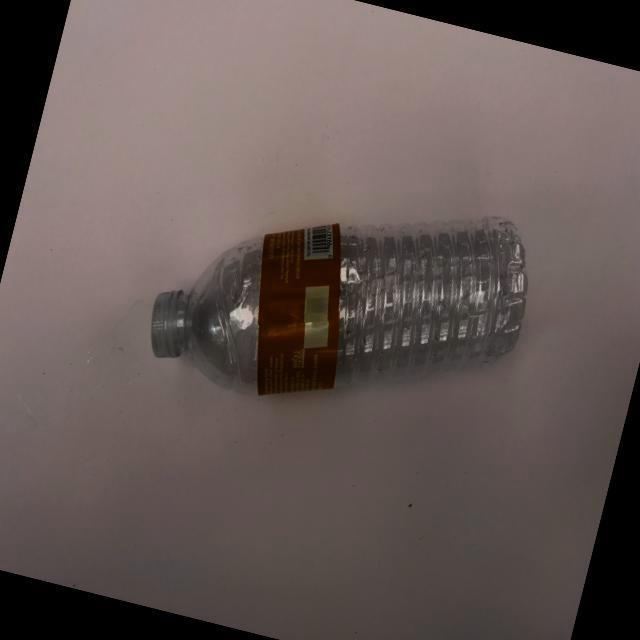plastic: (116, 114, 582, 514)
